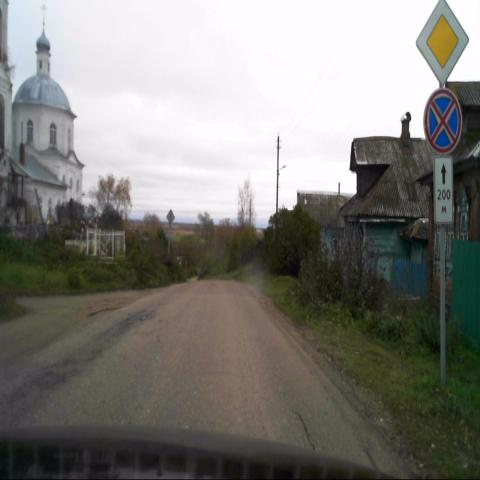8_2_2: (435, 157, 454, 225)
